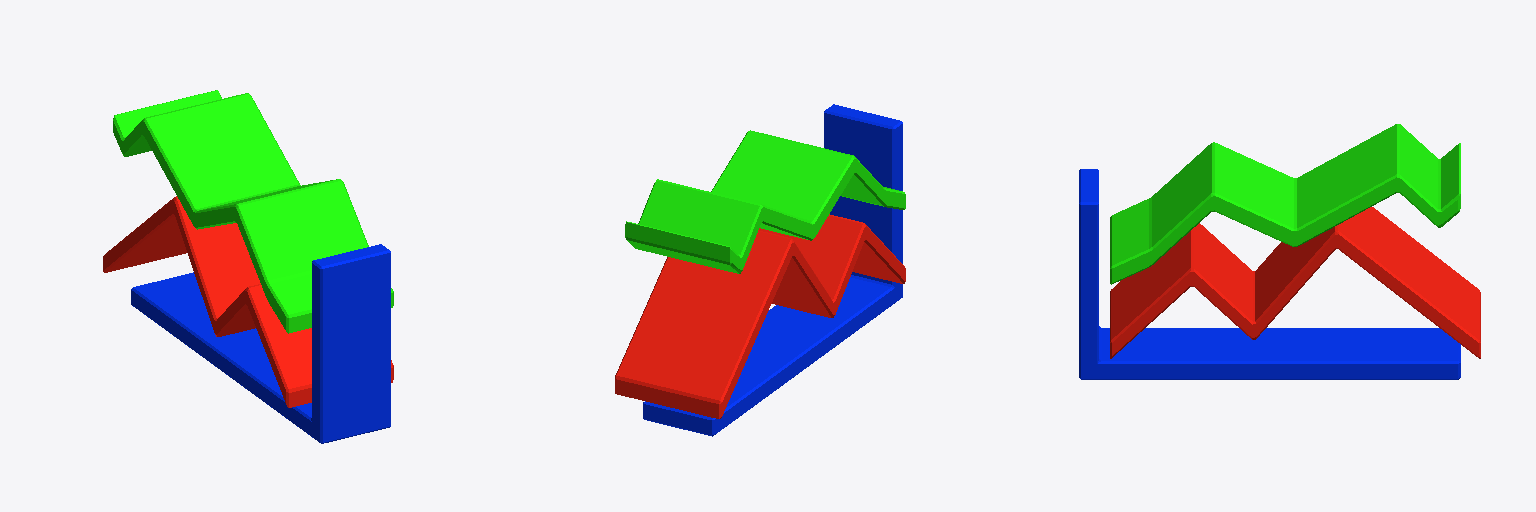
The model's file is cnp.obj.
3 renders of one model, left to right at view 1: azimuth 30°, elevation 25°; view 2: azimuth 150°, elevation 25°; view 3: azimuth 270°, elevation 25°, orthographic.
Parts seen in each view (by area): view 1: Cube; view 2: Cube; view 3: Cube.
Boxes of the visible parts, box(x1,y1,x2,y2) form: Cube: box(103, 90, 393, 443); Cube: box(615, 104, 905, 436); Cube: box(1079, 124, 1480, 379).
Bounding box in the file's own units: 0.54 × 1.03 × 1.75.